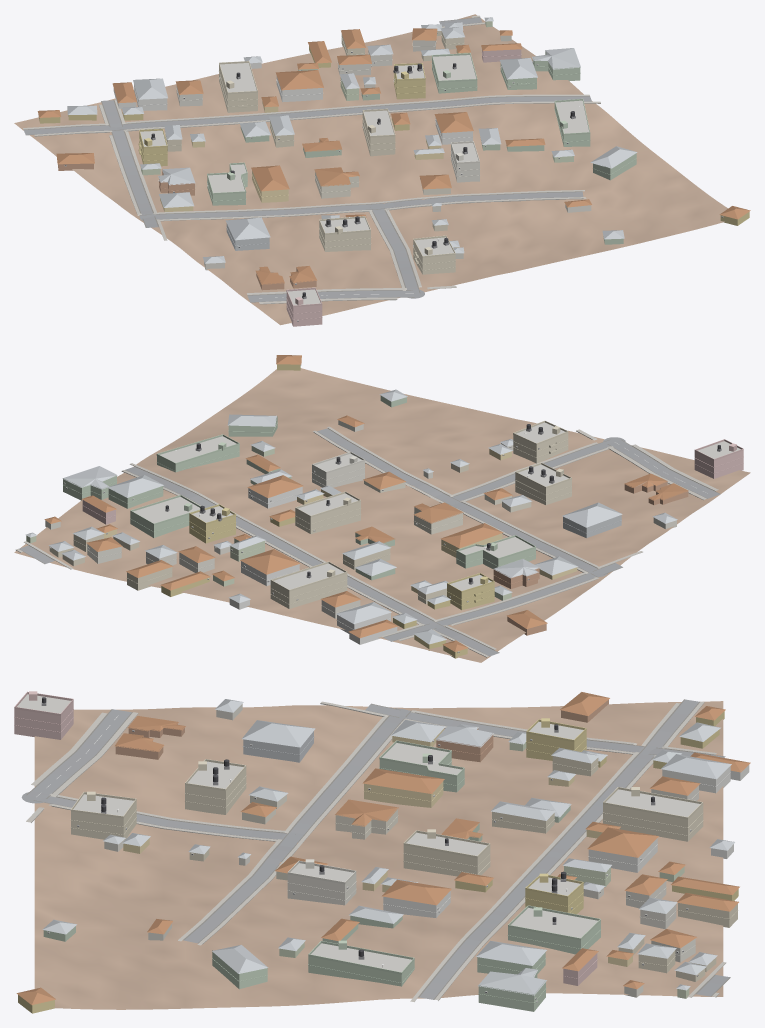
3 renders of one model, top to bottom at view 1: azimuth 30°, elevation 25°; view 2: azimuth 150°, elevation 25°; view 3: azimuth 270°, elevation 25°, orthographic. The views are drawn at different scales.
Parts seen in each view (by area): view 1: Terrain-col, Buildings-col, Roads-col, Sidewalks-col, Details; view 2: Terrain-col, Buildings-col, Roads-col, Details, Sidewalks-col; view 3: Terrain-col, Buildings-col, Roads-col, Details, Sidewalks-col.
Boxes of the visible parts, <box> form: Terrain-col: <box>14,14,727,325</box>; Buildings-col: <box>37,17,750,326</box>; Roads-col: <box>23,17,591,302</box>; Sidewalks-col: <box>23,15,600,304</box>; Details: <box>64,33,723,321</box>; Terrain-col: <box>14,368,750,662</box>; Buildings-col: <box>25,355,743,658</box>; Roads-col: <box>19,428,720,656</box>; Details: <box>49,365,743,653</box>; Sidewalks-col: <box>16,426,718,657</box>; Terrain-col: <box>34,701,723,1009</box>; Buildings-col: <box>14,692,750,1013</box>; Roads-col: <box>21,699,730,999</box>; Details: <box>14,691,738,1003</box>; Sidewalks-col: <box>26,701,726,1001</box>.
Bounding box in the file's own units: 276 × 20.37 × 274.
